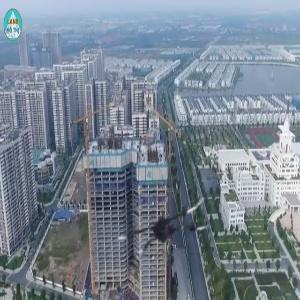drone: (116, 172, 212, 268)
